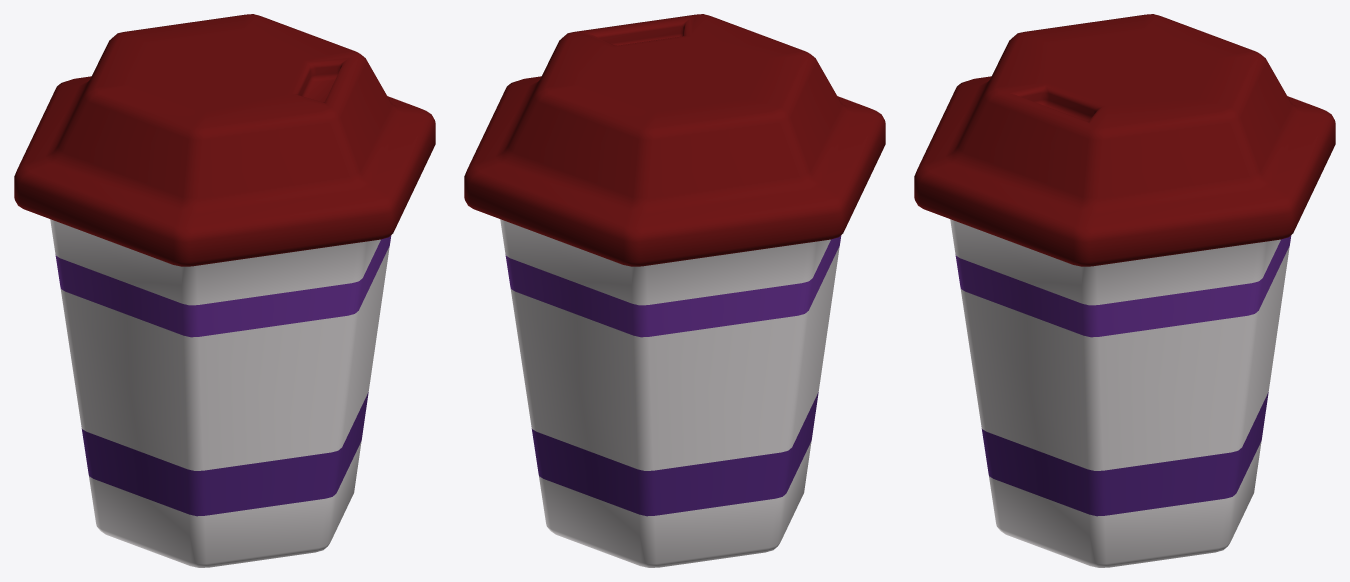
File: Coffee.fbx
3 renders of one model, left to right at view 1: azimuth 30°, elevation 25°; view 2: azimuth 150°, elevation 25°; view 3: azimuth 270°, elevation 25°, orthographic.
Parts seen in each view (by area): view 1: Coffee_Cup; view 2: Coffee_Cup; view 3: Coffee_Cup.
Boxes of the visible parts, left/top/right/bottom form: Coffee_Cup: left=14, top=14, right=435, bottom=567; Coffee_Cup: left=464, top=14, right=885, bottom=567; Coffee_Cup: left=914, top=14, right=1335, bottom=567.
Bounding box in the file's own units: 32.57 × 36.79 × 31.6.
